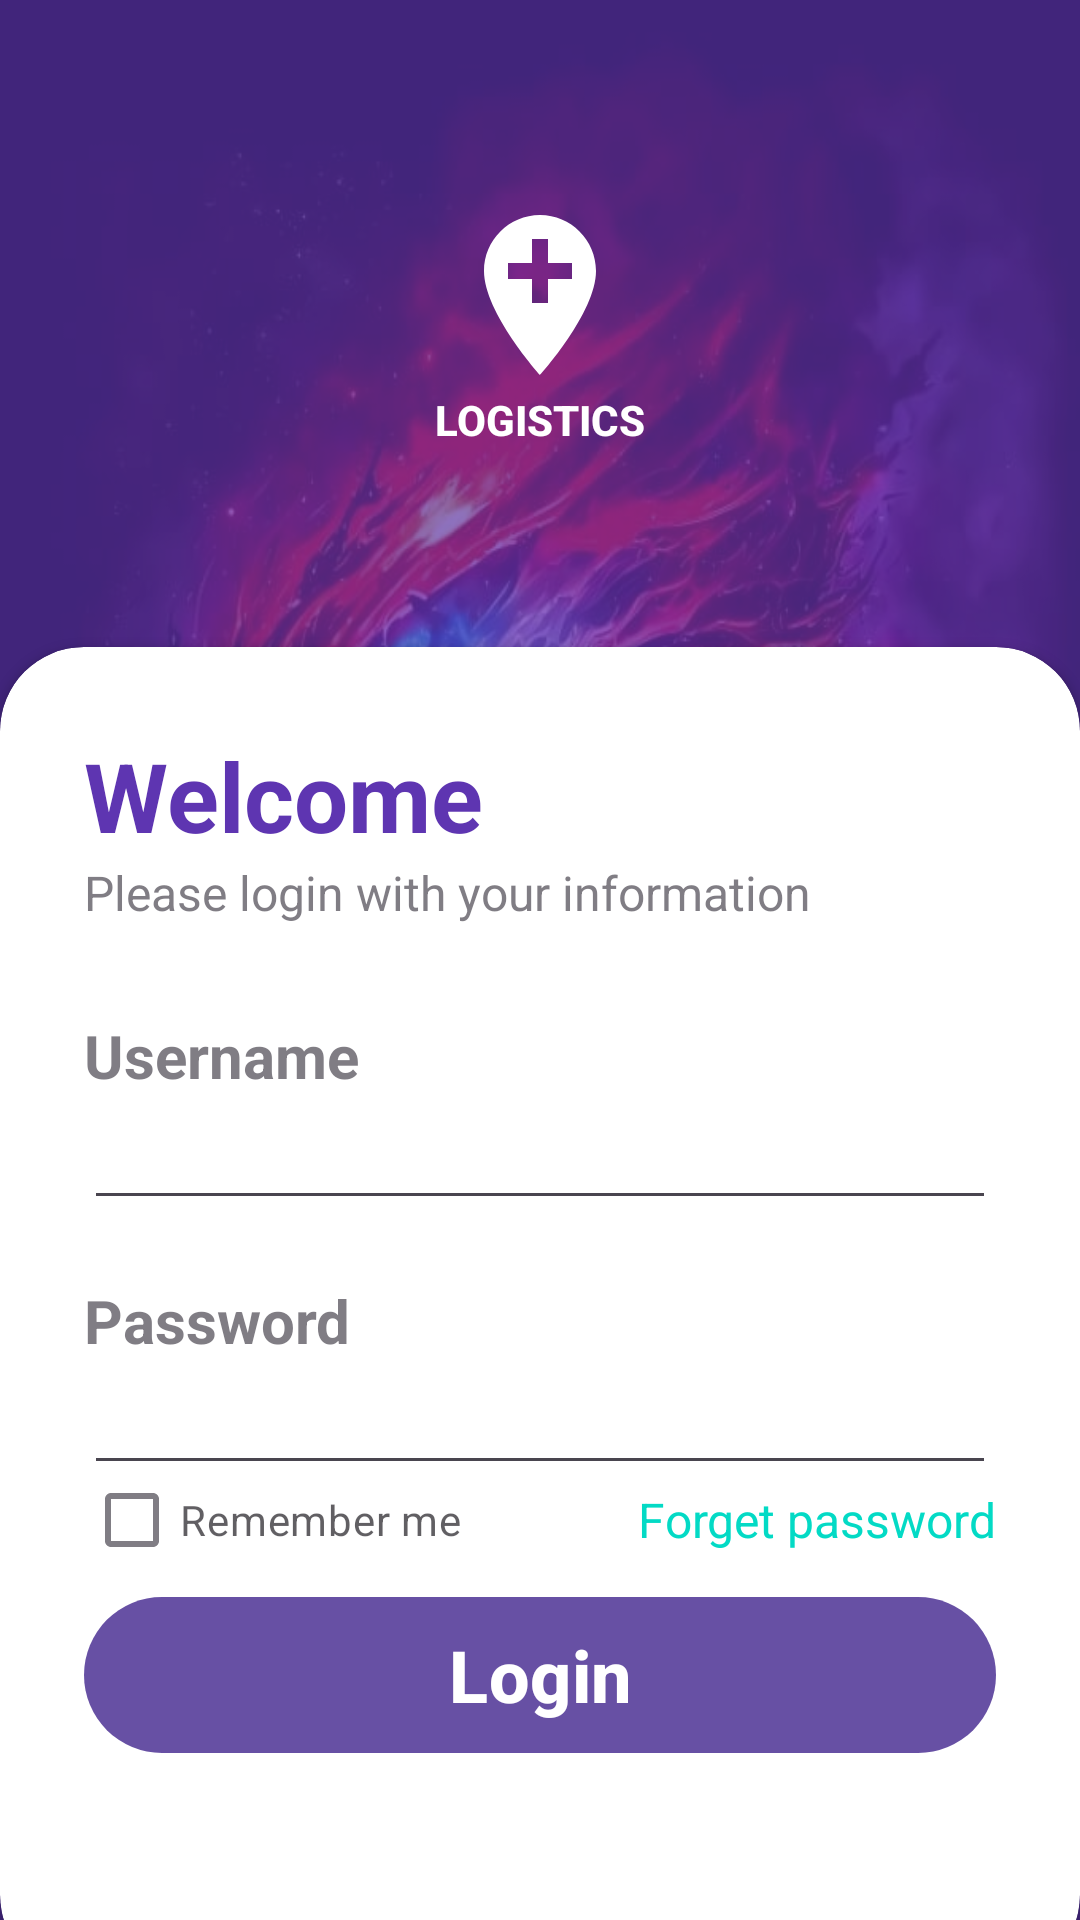

Icons on this 1080 × 1920 Android screen, each with its box as (x1, y1, x2, y2):
location: (444, 215, 636, 391)
